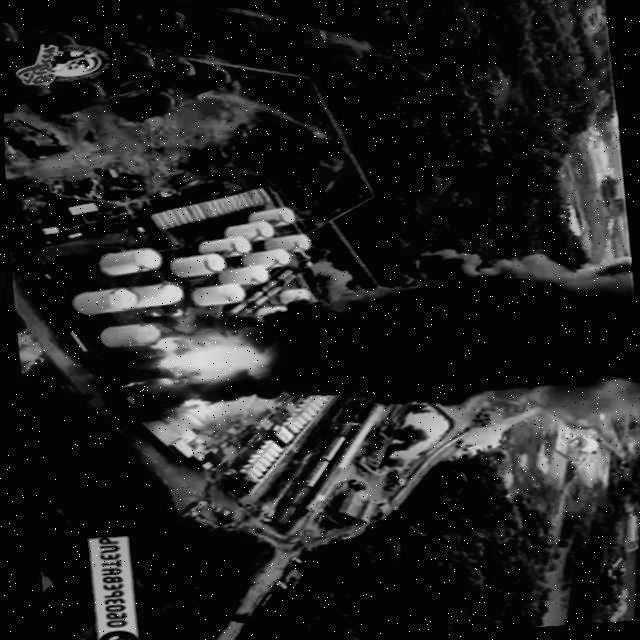Smoke: (202, 234, 640, 426)
